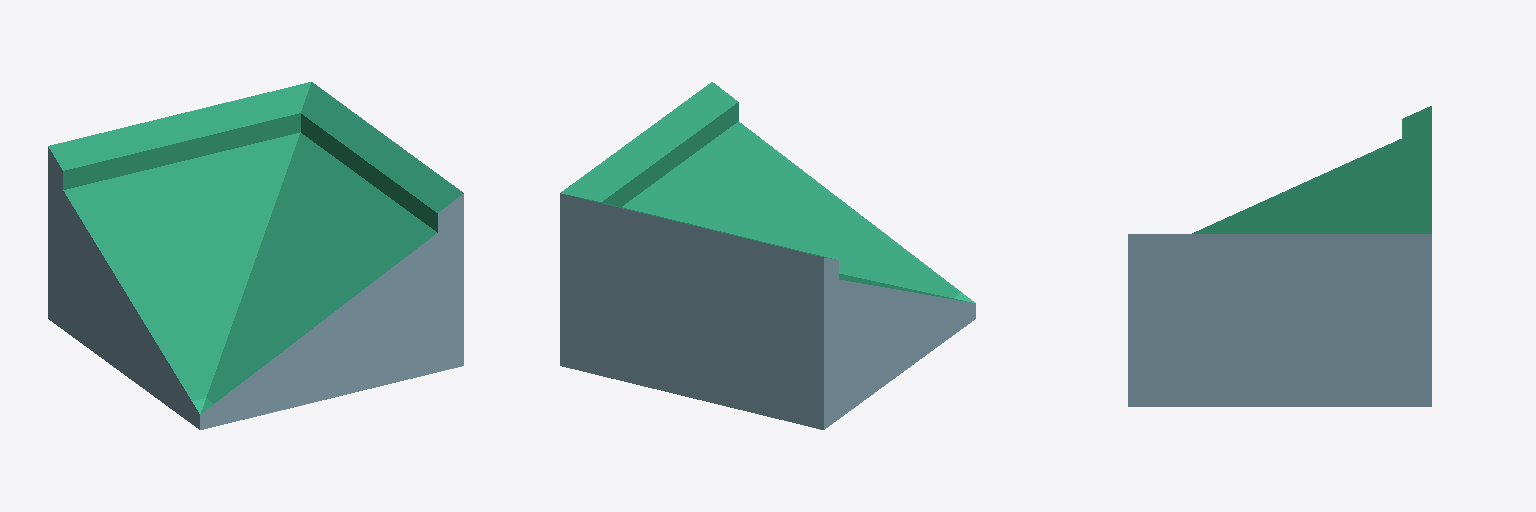
File: roofCornerInner.obj
3 views of the same model, side by side, from view 1: azimuth 30°, elevation 25°; view 2: azimuth 150°, elevation 25°; view 3: azimuth 270°, elevation 25° (orthographic).
Visible parts, largest first — view 1: roofCornerInner; view 2: roofCornerInner; view 3: roofCornerInner.
Part boxes in pixels (bbox=[...]): roofCornerInner: bbox=[48, 82, 463, 429]; roofCornerInner: bbox=[560, 82, 975, 429]; roofCornerInner: bbox=[1128, 106, 1431, 406].
Bounding box in the file's own units: 1 × 0.6259 × 1.